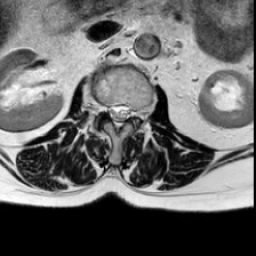CCS_normal: (113, 95, 121, 140)
LFS_normal: (131, 96, 139, 125)
LLS_normal: (121, 96, 131, 125)
RFS_normal: (99, 94, 106, 121)
RLS_normal: (106, 96, 114, 126)
